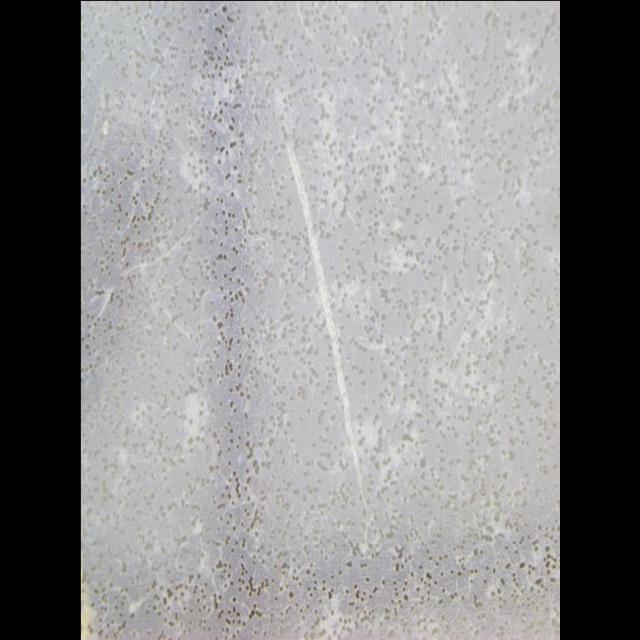Fibre: (274, 78, 374, 524)
